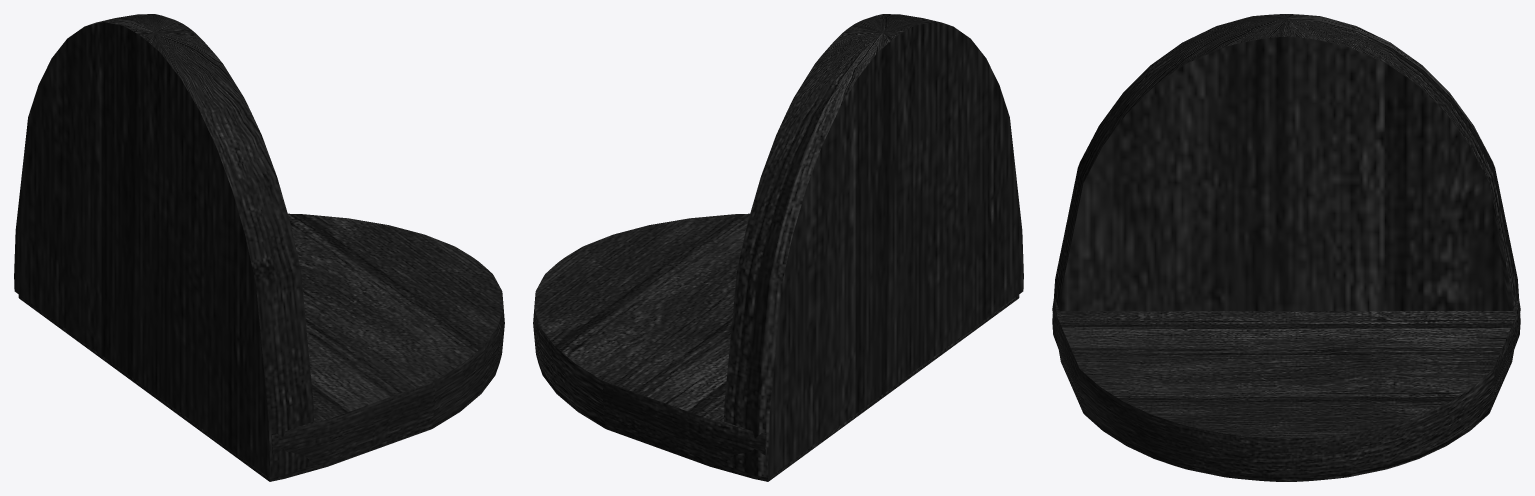
File: Periquera.obj
3 views of the same model, side by side, from view 1: azimuth 30°, elevation 25°; view 2: azimuth 150°, elevation 25°; view 3: azimuth 270°, elevation 25° (orthographic). The views are drawn at different scales.
Visible parts, largest first — view 1: pasted__pSphere4 group1, pSphere4; view 2: pasted__pSphere4 group1, pSphere4; view 3: pasted__pSphere4 group1, pSphere4.
Boxes of the visible parts, <box> form: pasted__pSphere4 group1: <box>14,14,314,477</box>; pSphere4: <box>18,213,504,481</box>; pasted__pSphere4 group1: <box>723,14,1023,477</box>; pSphere4: <box>533,213,1019,481</box>; pasted__pSphere4 group1: <box>1052,14,1520,348</box>; pSphere4: <box>1052,297,1520,481</box>.
Size of the model in its own units: 0.6593 by 0.6662 by 0.878.
1 material, 1 textured.
